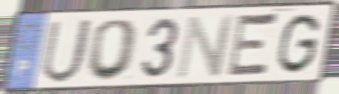3: (140, 16, 180, 81)
E: (224, 11, 281, 80)
G: (275, 12, 323, 76)
N: (174, 13, 238, 81)
O: (84, 17, 141, 83)
U: (39, 17, 96, 86)
